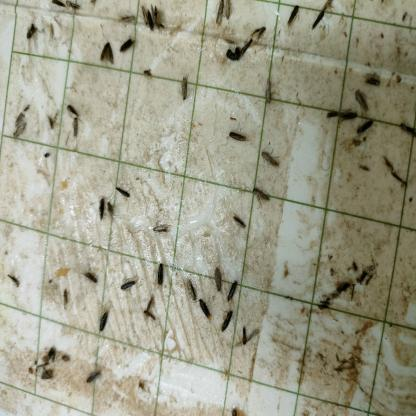prays_oleae: (258, 80, 284, 110), (257, 144, 282, 173), (308, 6, 333, 35), (108, 176, 132, 206), (396, 106, 416, 142), (146, 213, 170, 240), (197, 290, 216, 324), (92, 310, 115, 338), (352, 83, 370, 116), (102, 38, 118, 74), (121, 30, 138, 63), (82, 362, 104, 387), (222, 127, 249, 146), (116, 274, 139, 296), (184, 274, 200, 305), (210, 264, 225, 296), (142, 296, 160, 322), (354, 115, 376, 136), (5, 125, 29, 144), (221, 307, 237, 335), (340, 104, 358, 128), (94, 194, 107, 226), (226, 274, 241, 300), (251, 185, 271, 204), (150, 4, 164, 28), (233, 210, 248, 232), (59, 288, 74, 310), (239, 321, 251, 348), (366, 69, 380, 92), (117, 12, 137, 28), (212, 1, 224, 26), (289, 4, 301, 28), (105, 198, 118, 220), (80, 269, 99, 284), (146, 6, 156, 34), (154, 262, 166, 284), (180, 75, 190, 96), (70, 122, 82, 139), (64, 104, 80, 116), (225, 3, 236, 20), (140, 4, 148, 26)
